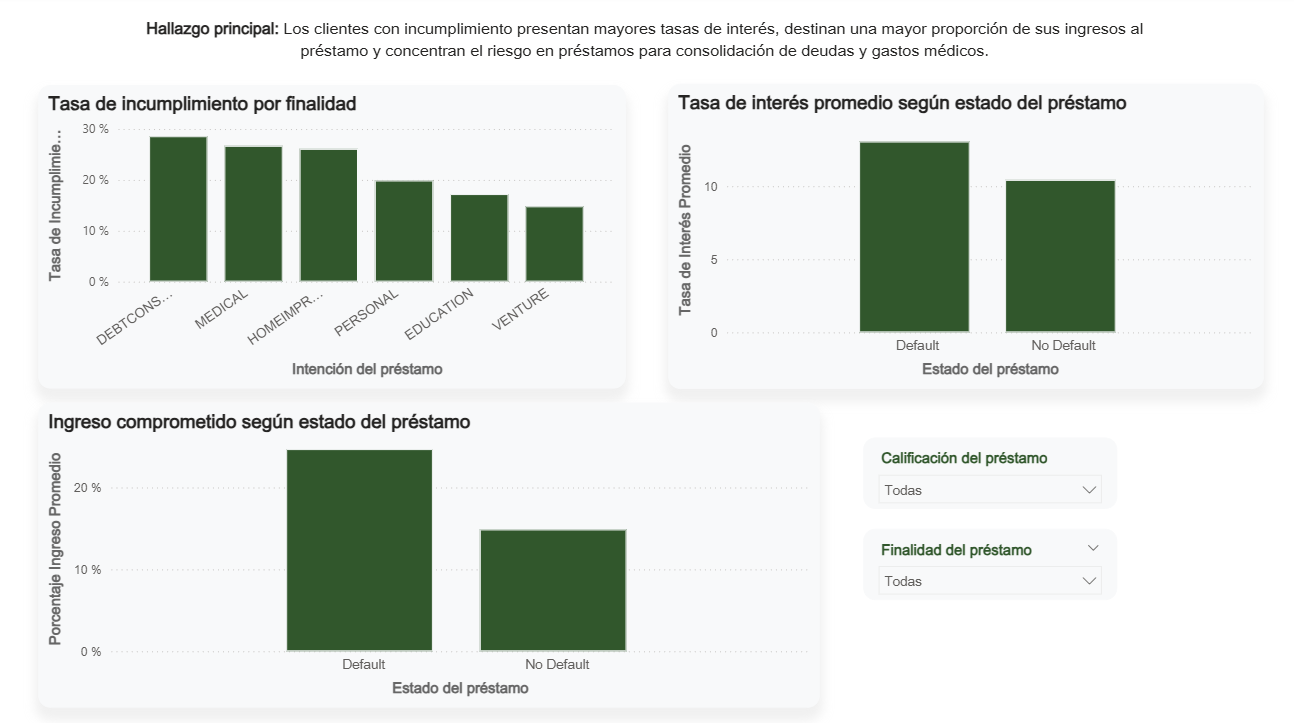

This screenshot's page, from the dashboard's own definition file:
{"tool":"powerbi","page":{"name":"Factor de riesgo","canvas":[1280,720],"ordinal":1},"visuals":[{"type":"clusteredColumnChart","title":"Tasa de incumplimiento por finalidad","fields":{"Category":["credit_risk_dataset.loan_intent"],"Y":["credit_risk_dataset.Tasa de Incumplimiento"]},"box":[40.4,88.4,579.5,299.2],"z":0},{"type":"clusteredColumnChart","title":"Tasa de interés promedio según estado del préstamo","fields":{"Category":["credit_risk_dataset.Loan Status Label"],"Y":["credit_risk_dataset.Tasa de Interés Promedio"]},"box":[661.6,87.1,587.1,300.5],"z":1000},{"type":"clusteredColumnChart","title":"Ingreso comprometido según estado del préstamo","fields":{"Category":["credit_risk_dataset.Loan Status Label"],"Y":["credit_risk_dataset.Porcentaje Ingreso Promedio"]},"box":[40.7,401.7,770.1,300.7],"z":2000},{"type":"textbox","box":[116.2,17.7,1045.4,56.8],"z":3000},{"type":"slicer","fields":{"Values":["credit_risk_dataset.loan_grade"]},"box":[853.9,436.2,250.1,70.2],"z":4000},{"type":"slicer","fields":{"Values":["credit_risk_dataset.loan_intent"]},"box":[853.9,526.1,250.1,70.2],"z":4001}]}

Visuals, with their boxes in screenshot pixels (x1, y1, x2, y2), scaled from the page's 1280x720 canvas onto the 1294x723 screenshot:
"Tasa de incumplimiento por finalidad" clusteredColumnChart: <region>41, 89, 627, 389</region>
"Tasa de interés promedio según estado del préstamo" clusteredColumnChart: <region>669, 87, 1262, 389</region>
"Ingreso comprometido según estado del préstamo" clusteredColumnChart: <region>41, 403, 820, 705</region>
textbox: <region>117, 18, 1174, 75</region>
slicer - credit_risk_dataset.loan_grade: <region>863, 438, 1116, 509</region>
slicer - credit_risk_dataset.loan_intent: <region>863, 528, 1116, 599</region>
